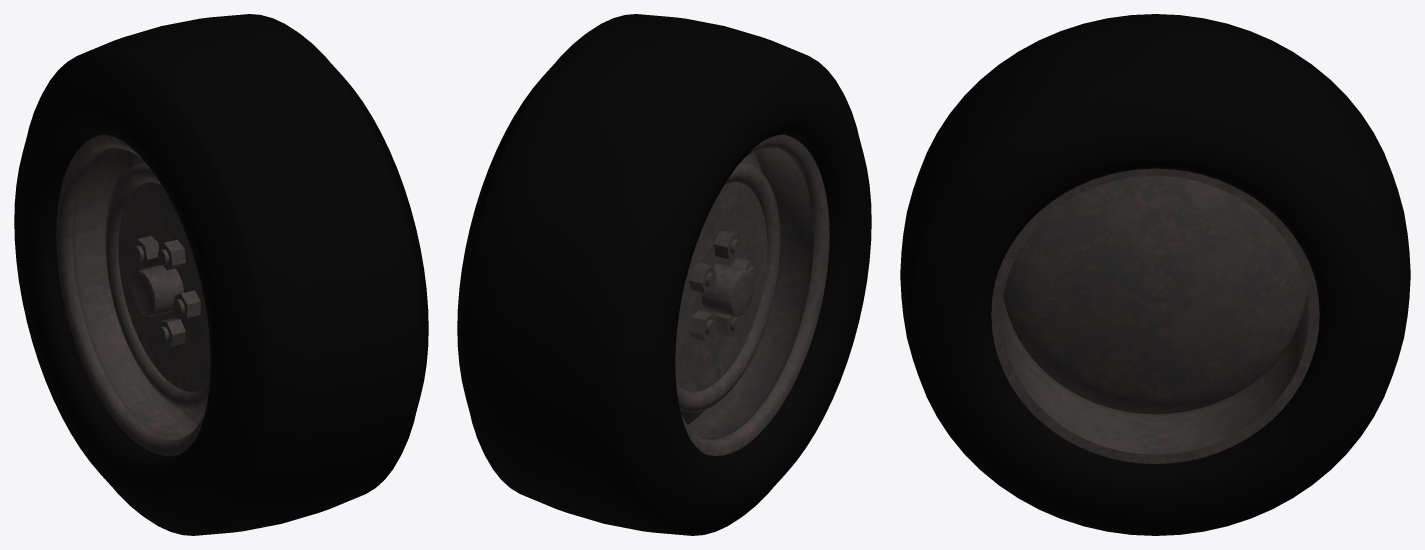
Rendered from TruckTire.obj.
The picture shows the model from 3 angles, left to right: view 1: azimuth 30°, elevation 25°; view 2: azimuth 150°, elevation 25°; view 3: azimuth 270°, elevation 25°; orthographic projection.
Visible parts, largest first — view 1: 4016_12880_MI_Wheel_GreenClaw01_3550_15822_LOD0; view 2: 4016_12880_MI_Wheel_GreenClaw01_3550_15822_LOD0; view 3: 4016_12880_MI_Wheel_GreenClaw01_3550_15822_LOD0.
Boxes of the visible parts, <box> form: 4016_12880_MI_Wheel_GreenClaw01_3550_15822_LOD0: <box>14,14,428,535</box>; 4016_12880_MI_Wheel_GreenClaw01_3550_15822_LOD0: <box>457,14,871,535</box>; 4016_12880_MI_Wheel_GreenClaw01_3550_15822_LOD0: <box>900,14,1410,535</box>.
Bounding box in the file's own units: 0.3744 × 0.825 × 0.825.
